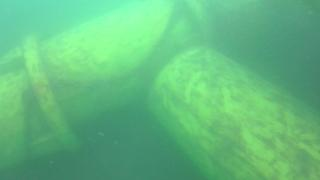pipe: (1, 1, 218, 169), (142, 46, 320, 180)
